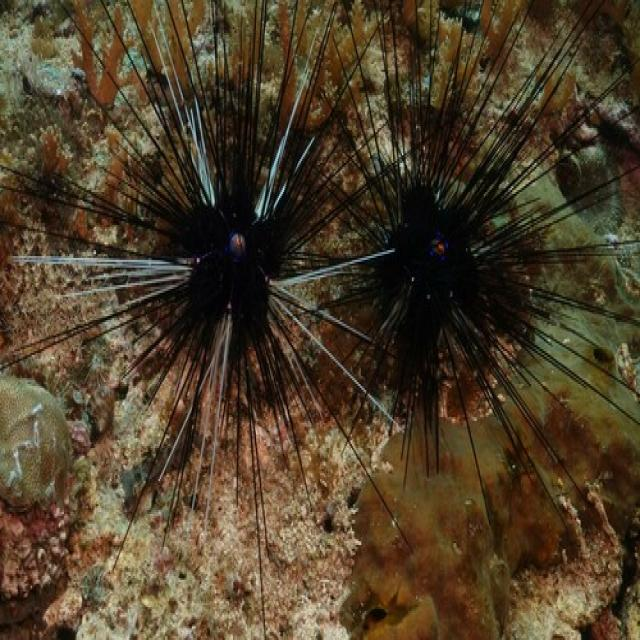Urchin: (22, 6, 402, 609), (286, 4, 640, 518)
